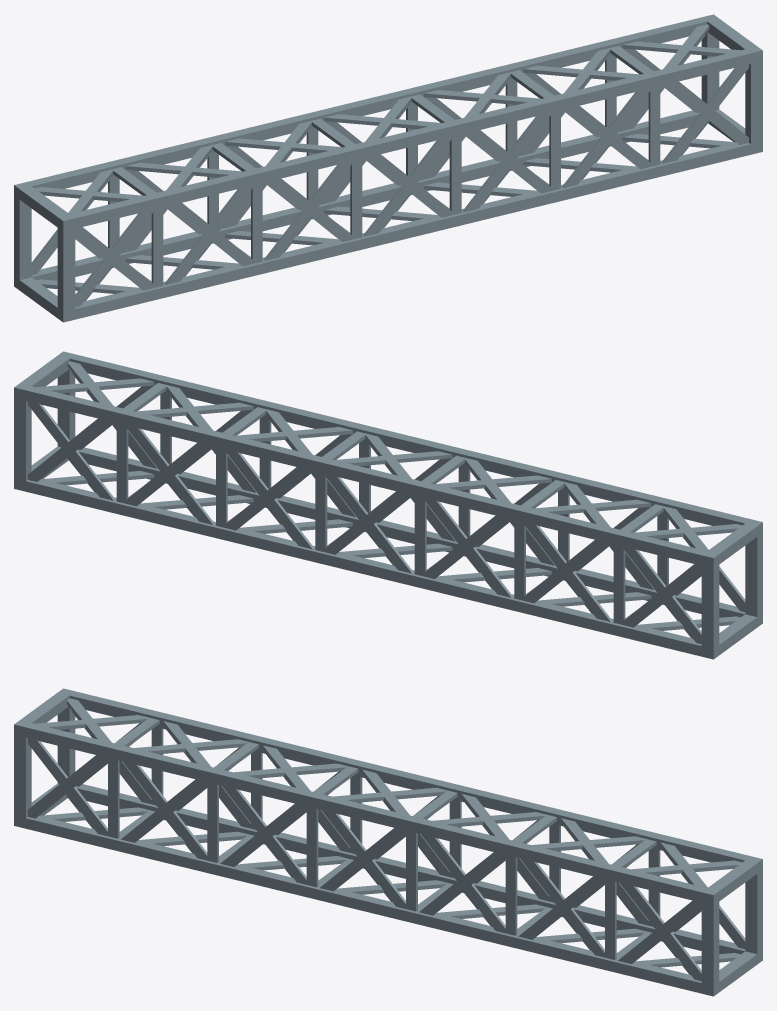
File: iron_structure.fbx
3 renders of one model, top to bottom at view 1: azimuth 30°, elevation 25°; view 2: azimuth 150°, elevation 25°; view 3: azimuth 330°, elevation 25°, orthographic.
Parts seen in each view (by area): view 1: IronStruct; view 2: IronStruct; view 3: IronStruct.
Part boxes in pixels (left/top/right/bottom): IronStruct: left=14, top=14, right=762, bottom=322; IronStruct: left=14, top=351, right=762, bottom=659; IronStruct: left=14, top=688, right=762, bottom=996.
Bounding box in the file's own units: 8.38 × 1.16 × 1.02.
